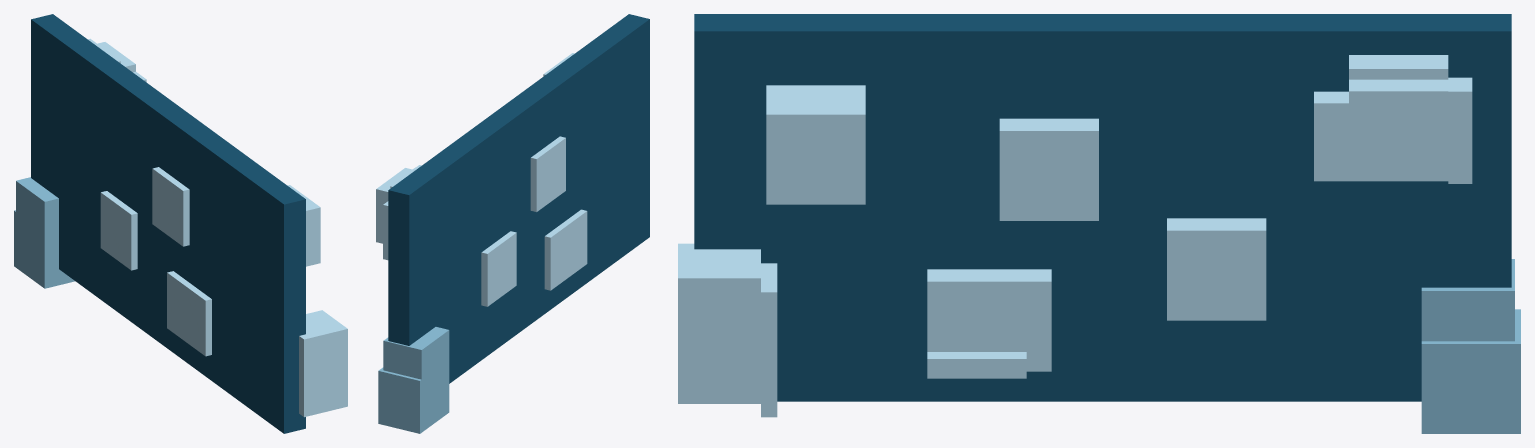
The model's file is Pared enemiga.fbx.
The picture shows the model from 3 angles, left to right: view 1: azimuth 30°, elevation 25°; view 2: azimuth 150°, elevation 25°; view 3: azimuth 270°, elevation 25°; orthographic projection. The views are drawn at different scales.
Parts seen in each view (by area): view 1: Pared enemiga; view 2: Pared enemiga; view 3: Pared enemiga.
Part boxes in pixels (x1,y1,x2,y2): Pared enemiga: (14,14,347,433); Pared enemiga: (376,14,649,433); Pared enemiga: (678,14,1520,433).
Bounding box in the file's own units: 167 × 535 × 1031.
Materials: 1 (1 with a texture image).
